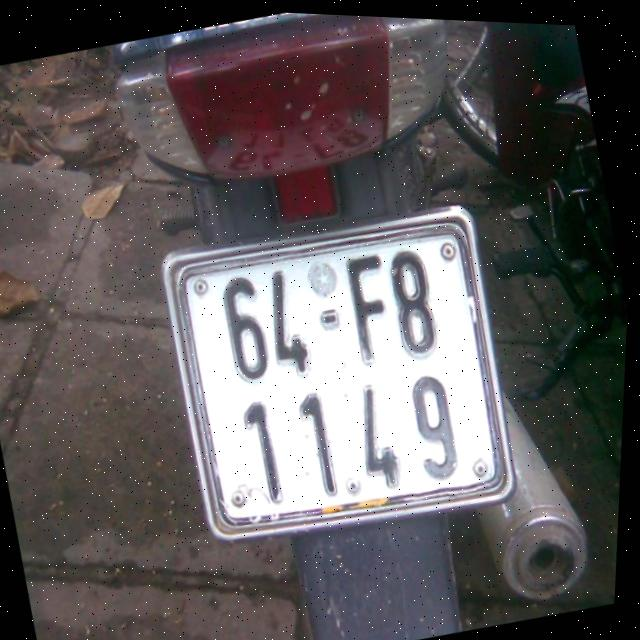motorcycle: (66, 4, 630, 640), (406, 19, 640, 426)
plate: (143, 186, 537, 568)
